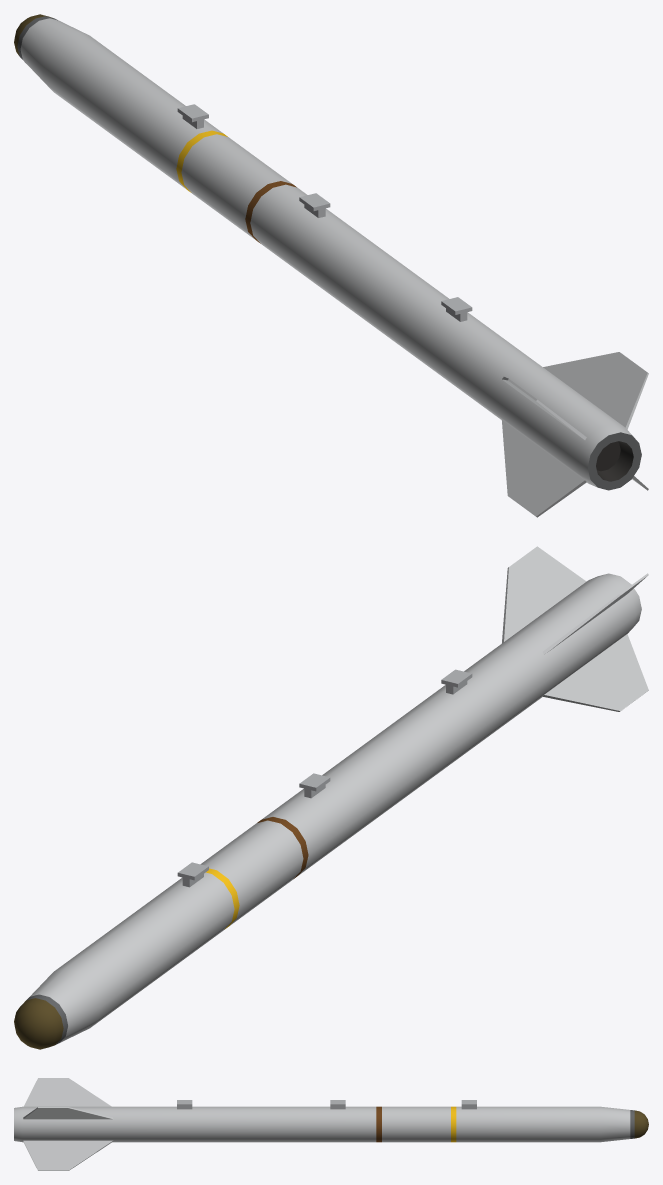
The model's file is asraam.glb.
3 renders of one model, top to bottom at view 1: azimuth 30°, elevation 25°; view 2: azimuth 150°, elevation 25°; view 3: azimuth 270°, elevation 25°, orthographic. The views are drawn at different scales.
Parts seen in each view (by area): view 1: asraam; view 2: asraam; view 3: asraam.
Boxes of the visible parts, x1=… form: asraam: x1=14, y1=14, x2=648, y2=517; asraam: x1=14, y1=546, x2=648, y2=1049; asraam: x1=14, y1=1078, x2=648, y2=1170.
Size of the model in its own units: 0.3217 by 0.3217 by 2.9.
